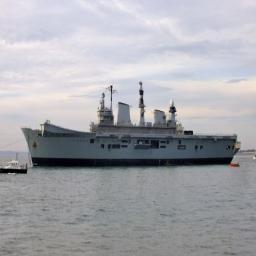Portanaves: (22, 80, 243, 171)
